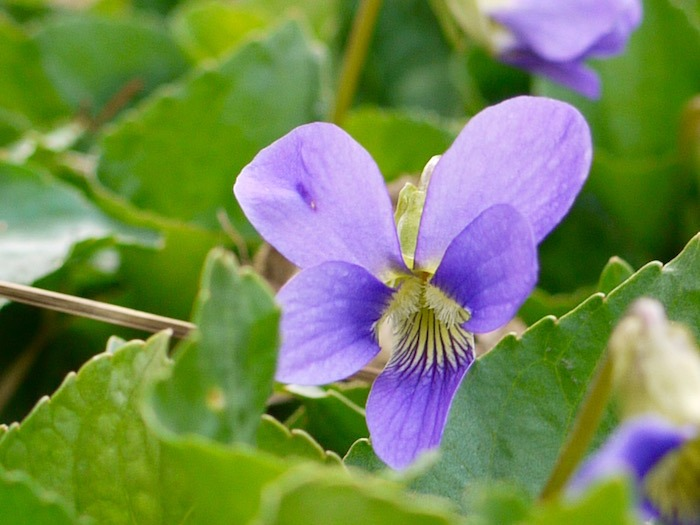violet: (202, 89, 607, 457)
